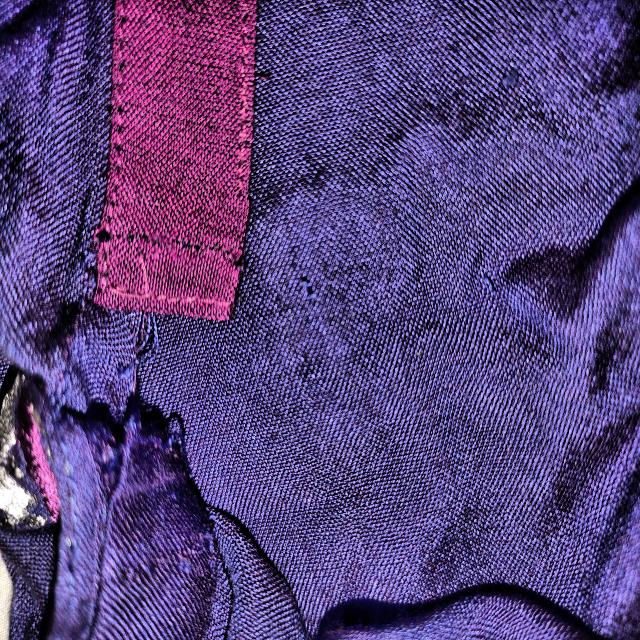seam: (64, 352, 226, 521)
